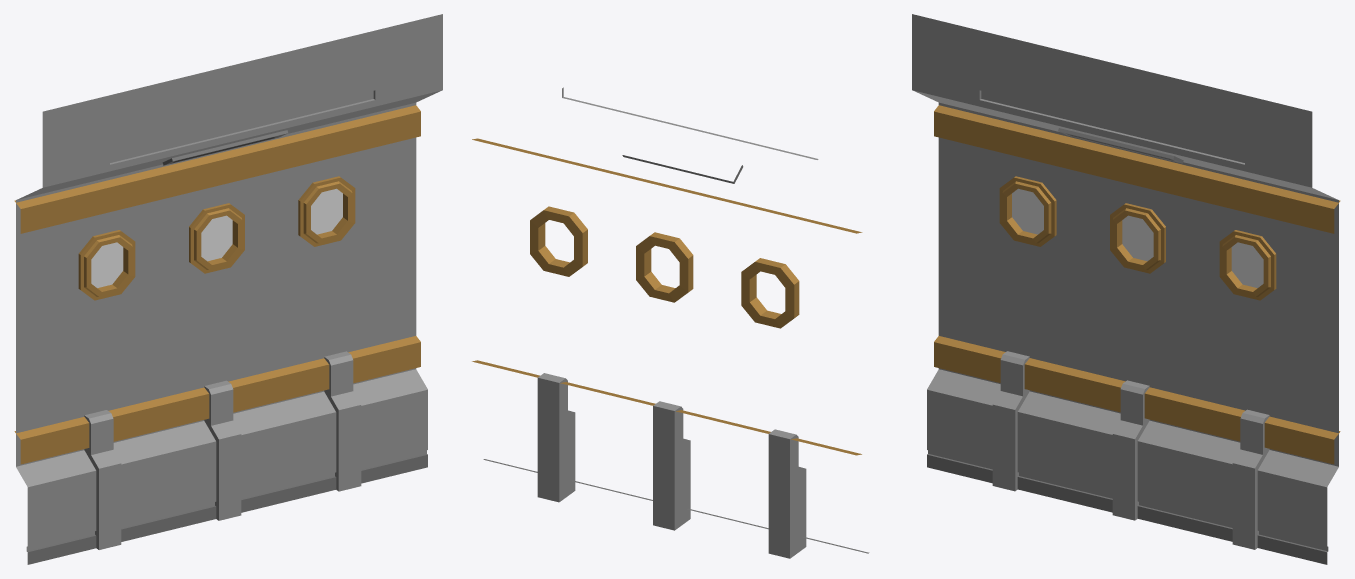
Rendered from quaternius-modular-sci-fi-small-windows-wall-side-b.glb.
The picture shows the model from 3 angles, left to right: view 1: azimuth 30°, elevation 25°; view 2: azimuth 150°, elevation 25°; view 3: azimuth 330°, elevation 25°; orthographic projection. The views are drawn at different scales.
Visible parts, largest first — view 1: SmallWindows_Wall_SideB; view 2: SmallWindows_Wall_SideB; view 3: SmallWindows_Wall_SideB.
Boxes of the visible parts, box(x1,y1,x2,y2) form: SmallWindows_Wall_SideB: box(14, 14, 442, 564); SmallWindows_Wall_SideB: box(472, 87, 869, 558); SmallWindows_Wall_SideB: box(912, 14, 1340, 564).
Size of the model in its own units: 4 by 4.43 by 0.5263.
